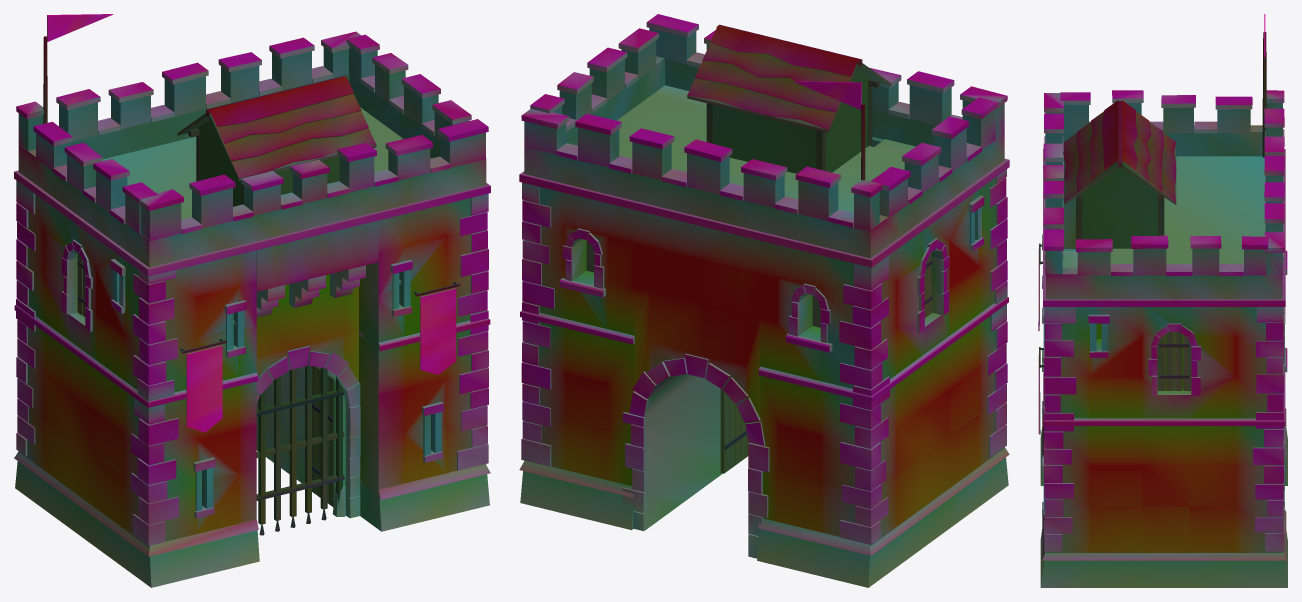
Rendered from gate_stone.glb.
3 views of the same model, side by side, from view 1: azimuth 30°, elevation 25°; view 2: azimuth 150°, elevation 25°; view 3: azimuth 270°, elevation 25° (orthographic). The views are drawn at different scales.
Visible parts, largest first — view 1: gate_stone_LOD0; view 2: gate_stone_LOD0; view 3: gate_stone_LOD0.
Boxes of the visible parts, box(x1,y1,x2,y2) form: gate_stone_LOD0: box(14, 14, 490, 587); gate_stone_LOD0: box(519, 14, 1009, 587); gate_stone_LOD0: box(1038, 14, 1287, 587).
Size of what is drawn, in the model's own units: 4.07 by 5.39 by 2.82.
